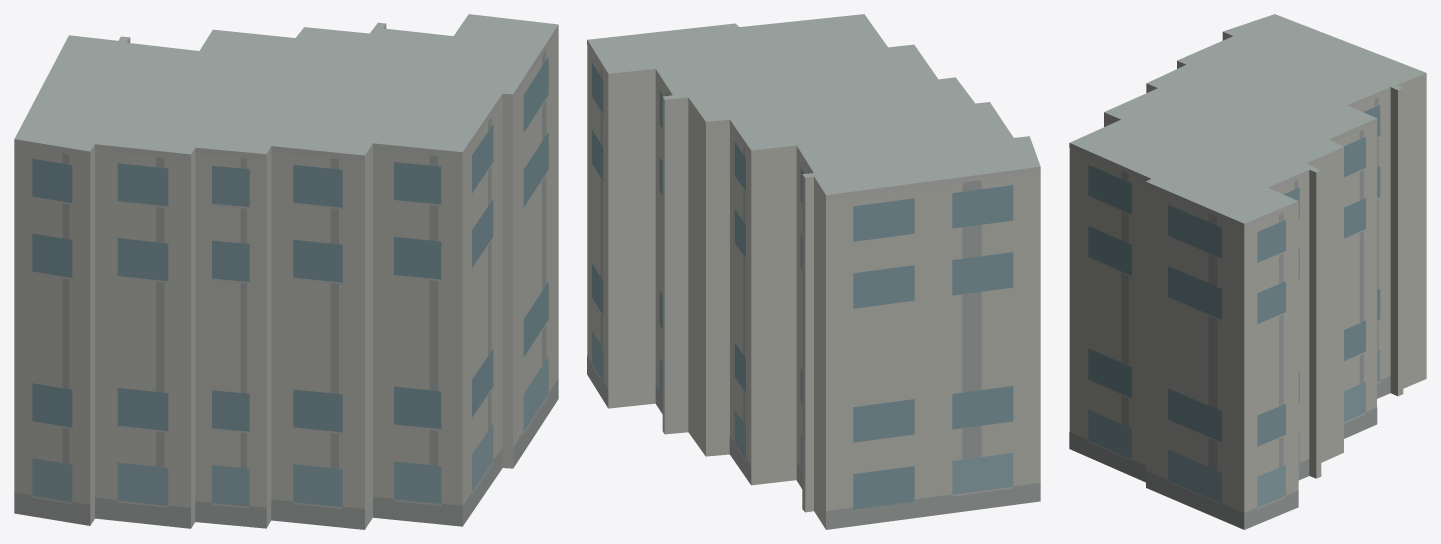
File: survey-upis-32887456.glb
3 renders of one model, left to right at view 1: azimuth 30°, elevation 25°; view 2: azimuth 150°, elevation 25°; view 3: azimuth 270°, elevation 25°, orthographic. The views are drawn at different scales.
Visible parts, largest first — view 1: survey-upis-32887456.tmp; view 2: survey-upis-32887456.tmp; view 3: survey-upis-32887456.tmp.
Boxes of the visible parts, left/top/right/bottom form: survey-upis-32887456.tmp: left=14, top=14, right=558, bottom=529; survey-upis-32887456.tmp: left=587, top=14, right=1040, bottom=529; survey-upis-32887456.tmp: left=1069, top=14, right=1426, bottom=529.
Bounding box in the file's own units: 21.17 × 14.4 × 15.23.
